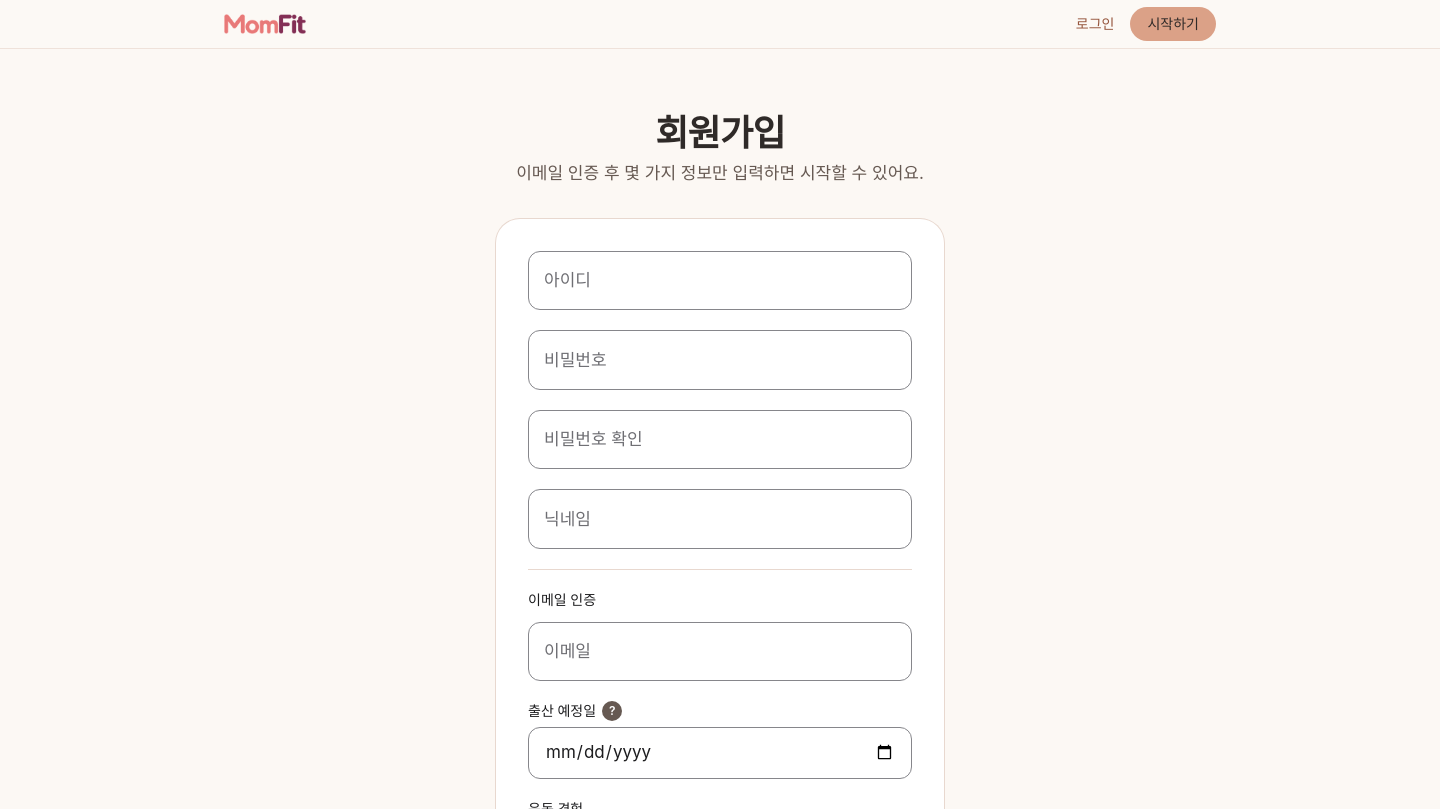
Scenario: 이메일 인증 입력 › 발송 제한(429)에 걸리면 메시지를 보여주고 받아 둔 코드를 입력할 수 있다
Type "mom@example.com" into the field labelled "이메일" at (720, 651), box [528, 622, 912, 681]
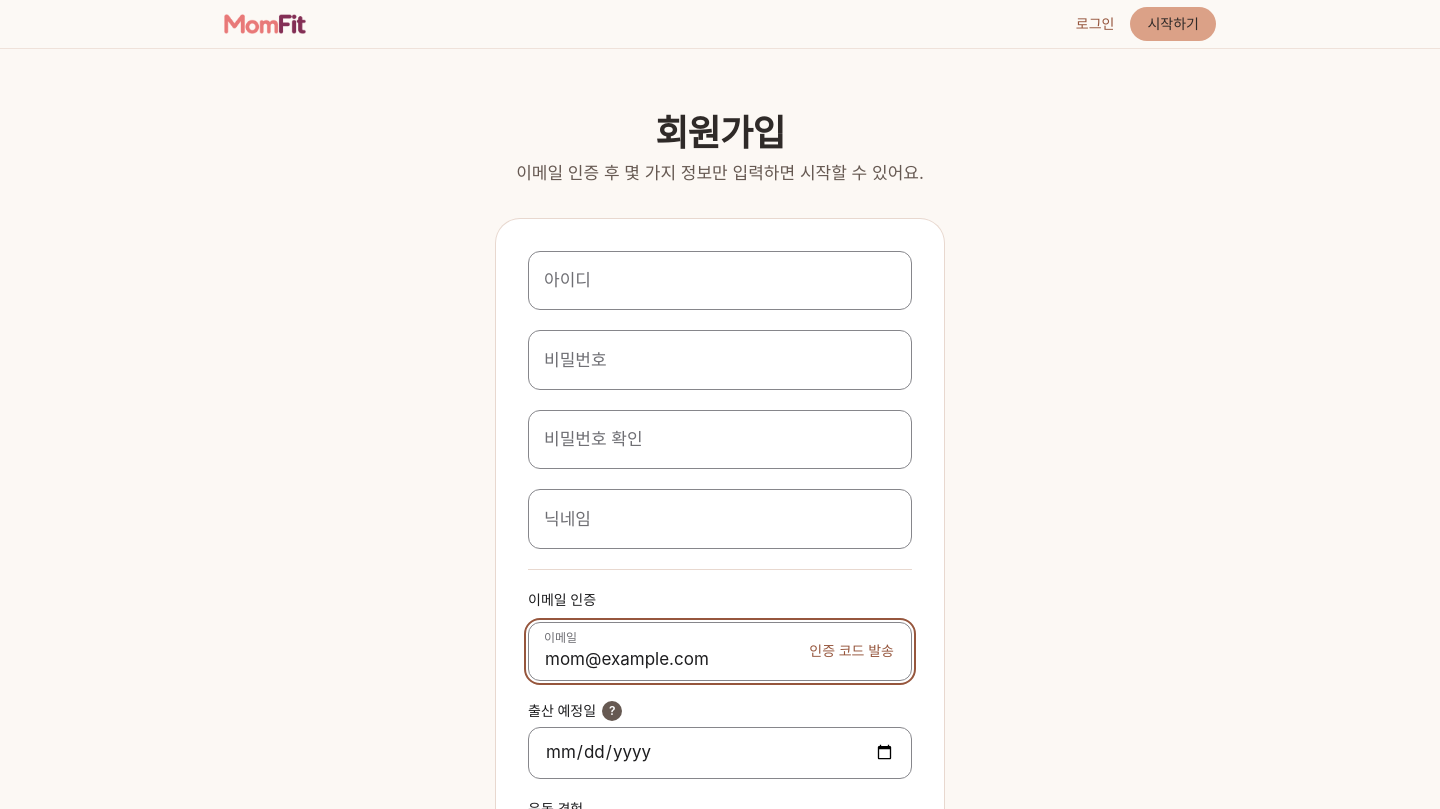
Click the button "인증 코드 발송" at (852, 651), box [803, 637, 900, 665]
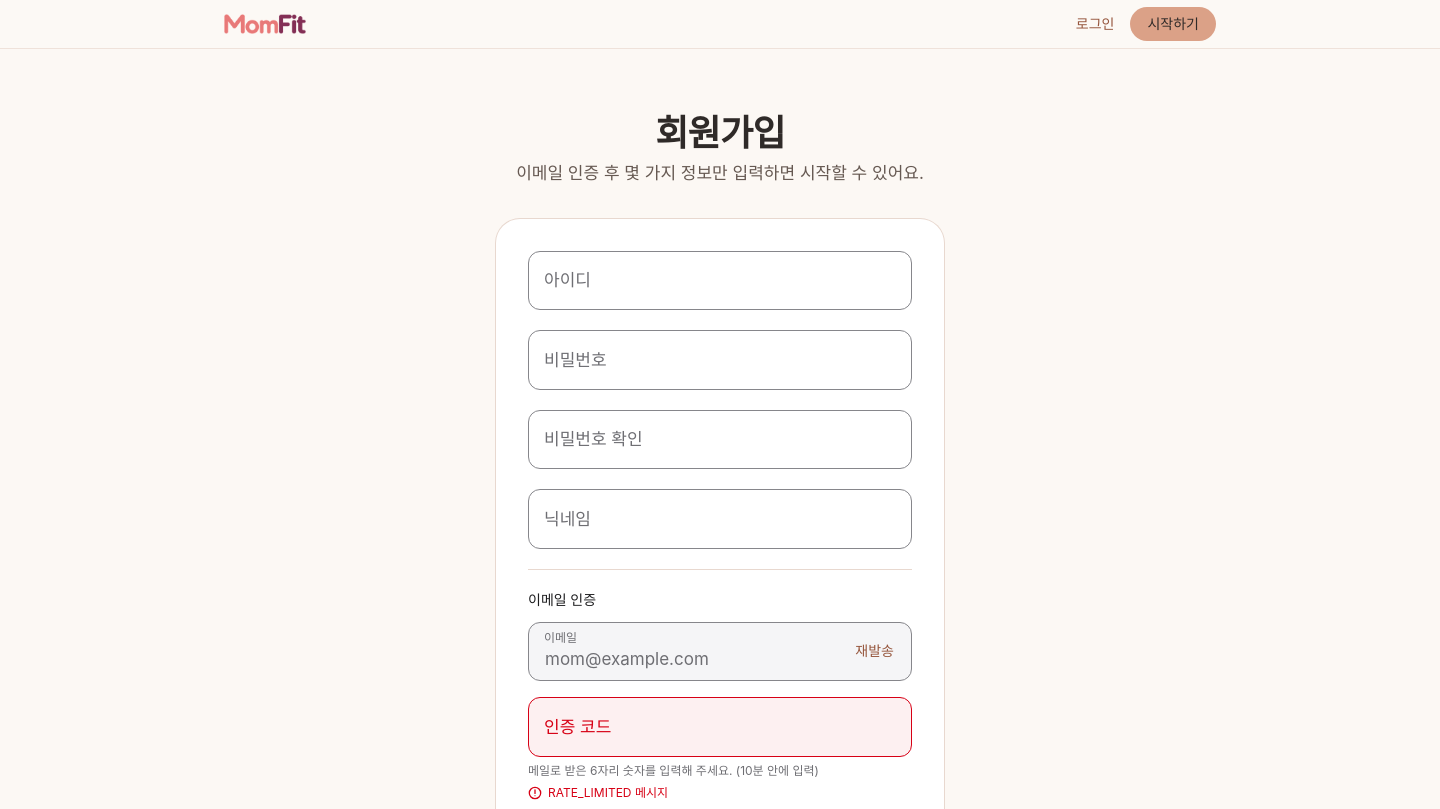
Expected: the text "RATE_LIMITED 메시지" is shown, [548, 784, 668, 800]
Expected: the field labelled "인증 코드" is enabled, [528, 697, 912, 756]
